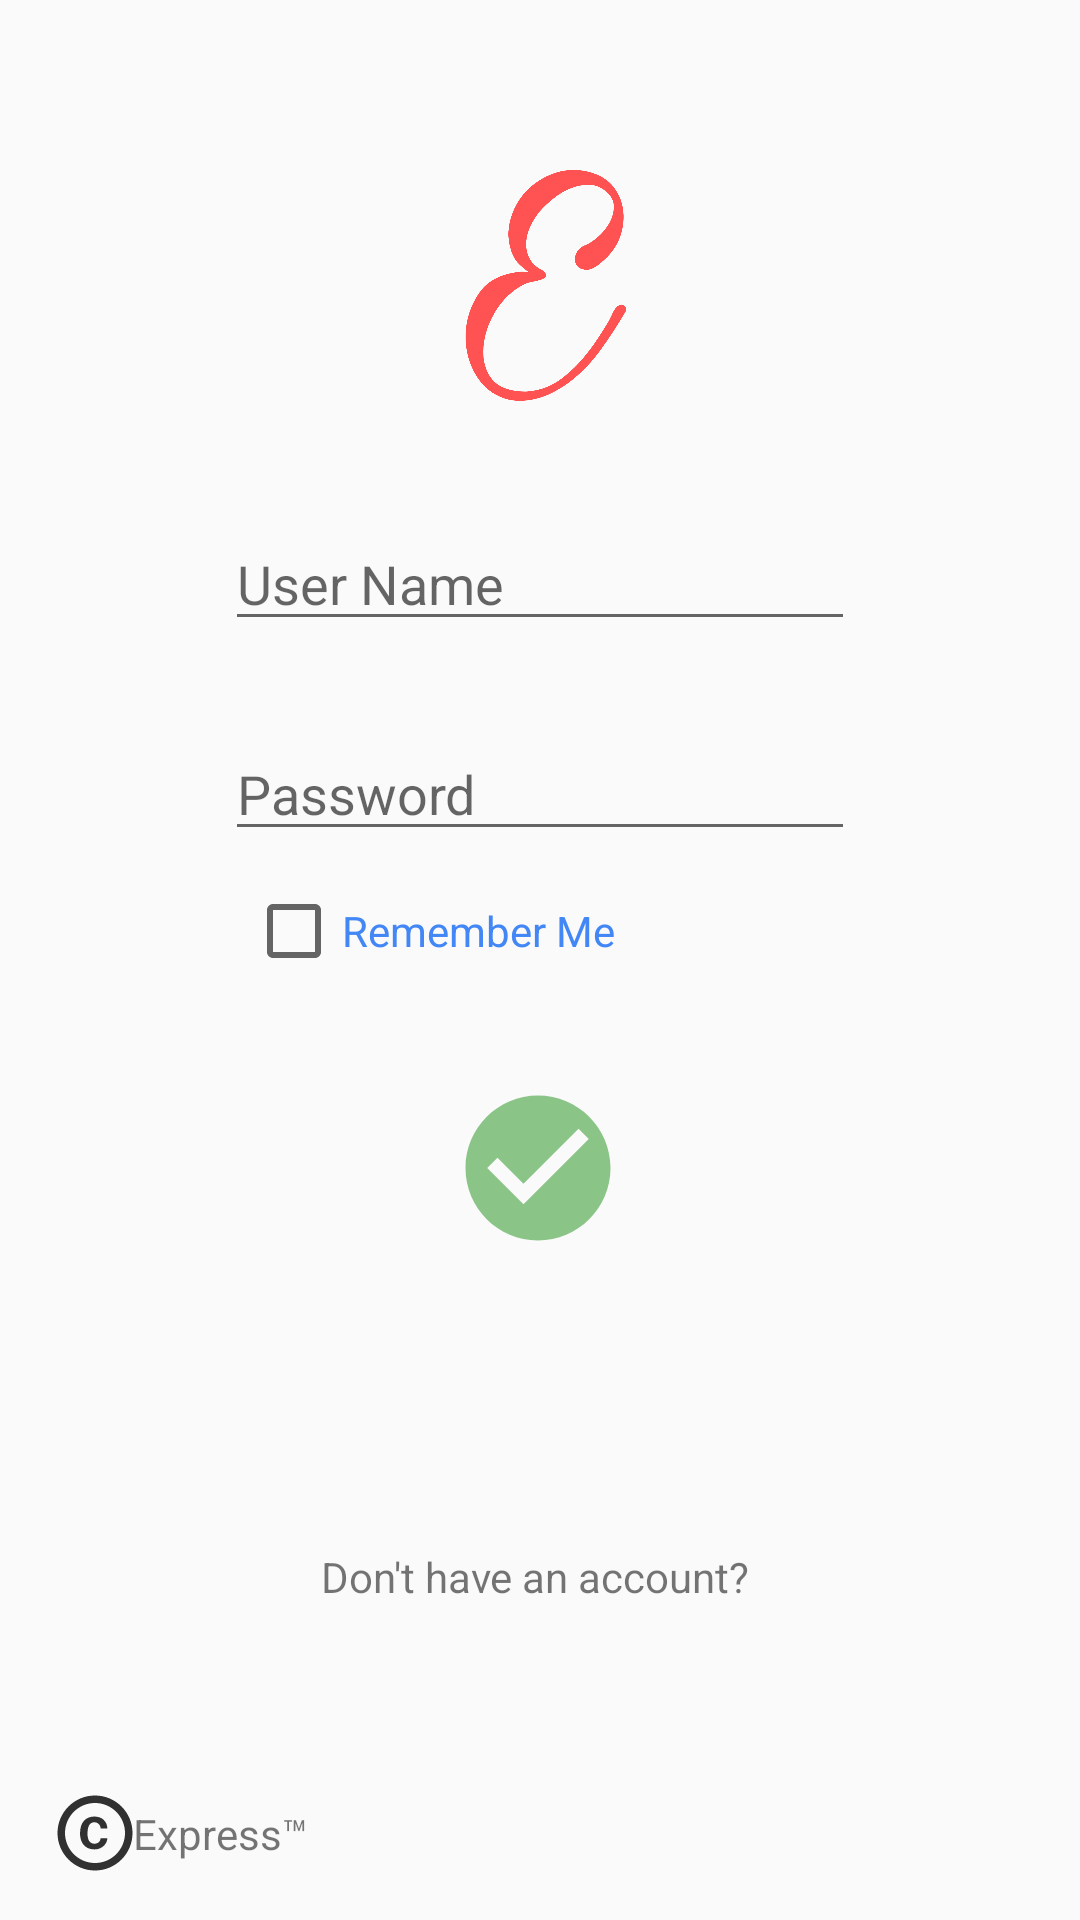

Screen size 1080x1920. Icon name, then its box in pixels as (x1,y1,x2,y2):
check circle: (465,1095,611,1241)
copyright: (57,1795,133,1871)
